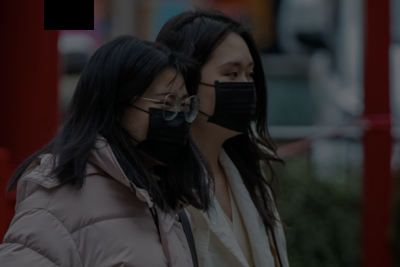with_mask: (122, 90, 191, 165), (198, 60, 256, 135)
